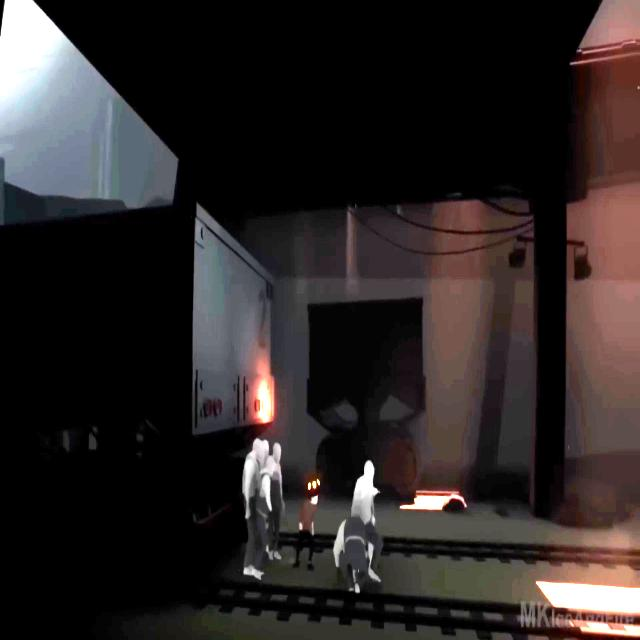boy: (293, 493, 317, 571)
zombie: (243, 456, 274, 581), (333, 516, 370, 602), (272, 443, 286, 559), (351, 459, 379, 514), (249, 438, 263, 456), (263, 440, 271, 454)
